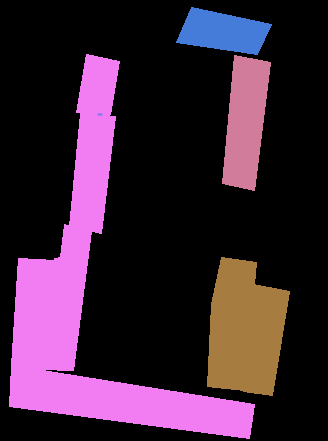parkingspot: (9, 365, 254, 438), (40, 224, 91, 370), (207, 257, 256, 390), (222, 55, 270, 190), (69, 113, 115, 233), (243, 284, 289, 395), (11, 258, 54, 369), (176, 7, 271, 54), (76, 54, 119, 114)
